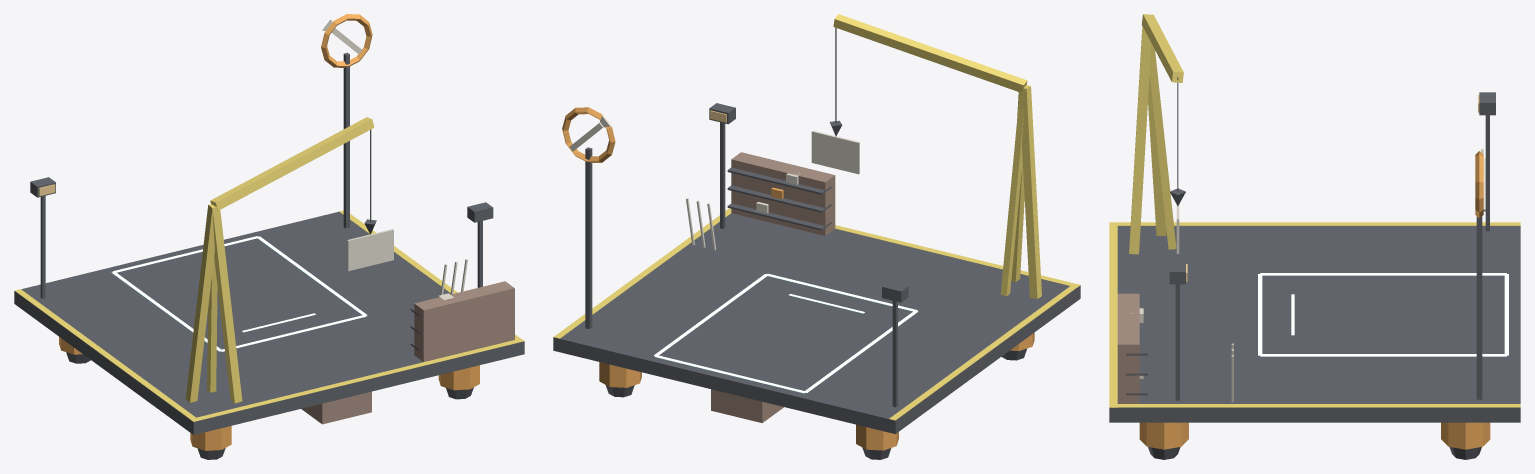
Rendered from RepairPlatform.fbx.
The picture shows the model from 3 angles, left to right: view 1: azimuth 30°, elevation 25°; view 2: azimuth 150°, elevation 25°; view 3: azimuth 270°, elevation 25°; orthographic projection. The views are drawn at different scales.
Visible parts, largest first — view 1: Platform, Marking; view 2: Platform, Marking; view 3: Platform, Marking.
Boxes of the visible parts, x1,y1,x2,y2 form: Platform: (14, 14, 524, 459); Marking: (111, 236, 367, 351); Platform: (553, 14, 1080, 459); Marking: (654, 273, 918, 393); Platform: (1109, 14, 1520, 459); Marking: (1258, 273, 1508, 356).
Size of the model in its own units: 16.45 by 13.52 by 15.
